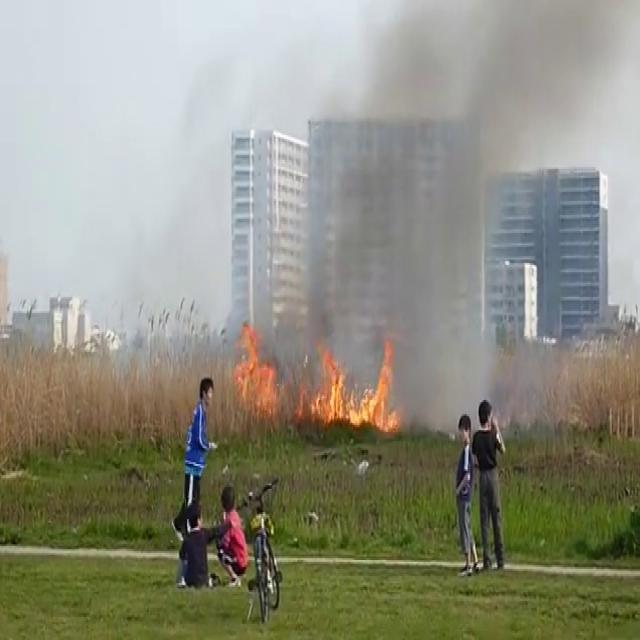Fire: (308, 335, 402, 438), (225, 322, 285, 426)
Smoke: (284, 0, 639, 380)
